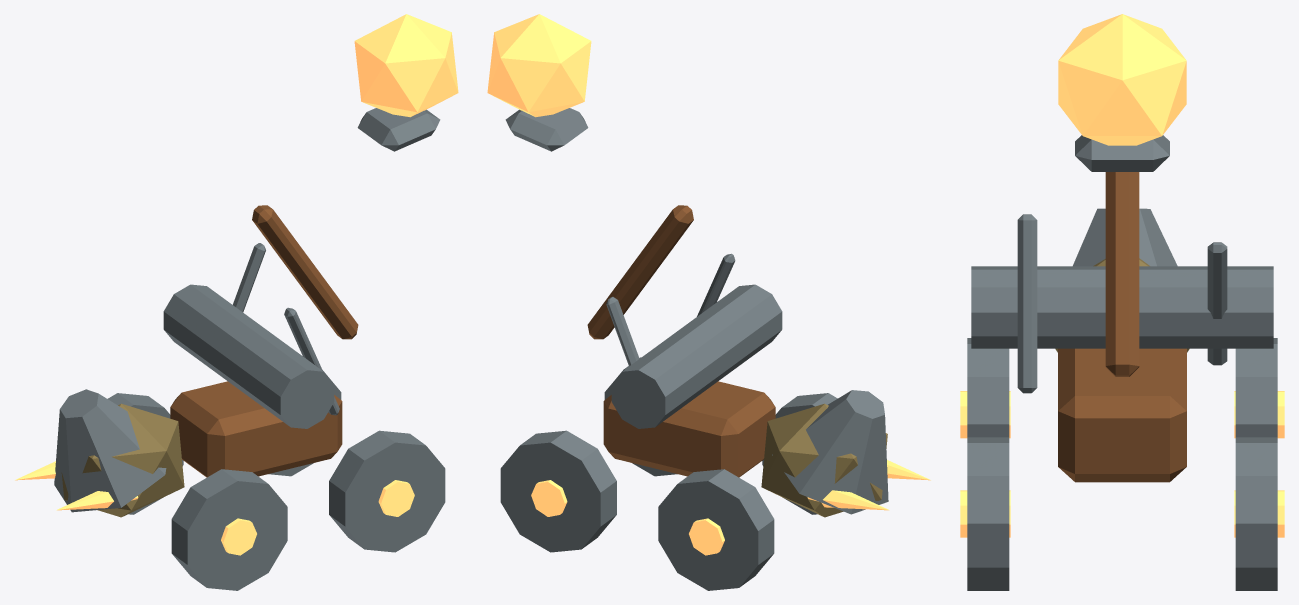
File: enemy_siege_lobber.glb
3 views of the same model, side by side, from view 1: azimuth 30°, elevation 25°; view 2: azimuth 150°, elevation 25°; view 3: azimuth 270°, elevation 25° (orthographic). The views are drawn at different scales.
Visible parts, largest first — view 1: enemy_siege_lobber; view 2: enemy_siege_lobber; view 3: enemy_siege_lobber.
Boxes of the visible parts, left/top/right/bottom form: enemy_siege_lobber: left=15, top=14, right=458, bottom=590; enemy_siege_lobber: left=487, top=14, right=930, bottom=590; enemy_siege_lobber: left=960, top=14, right=1284, bottom=590.
Bounding box in the file's own units: 2.22 × 2.43 × 1.16.
